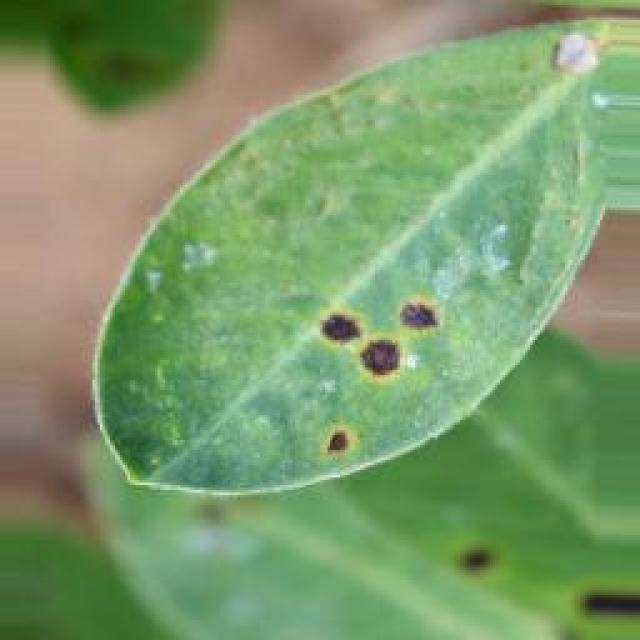Sigatoka: (312, 285, 450, 387), (450, 508, 522, 592), (296, 405, 378, 478)
